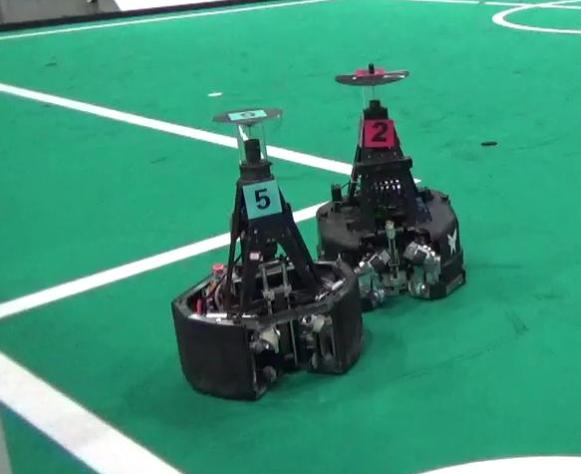robot: (164, 106, 368, 403), (305, 59, 473, 306)
